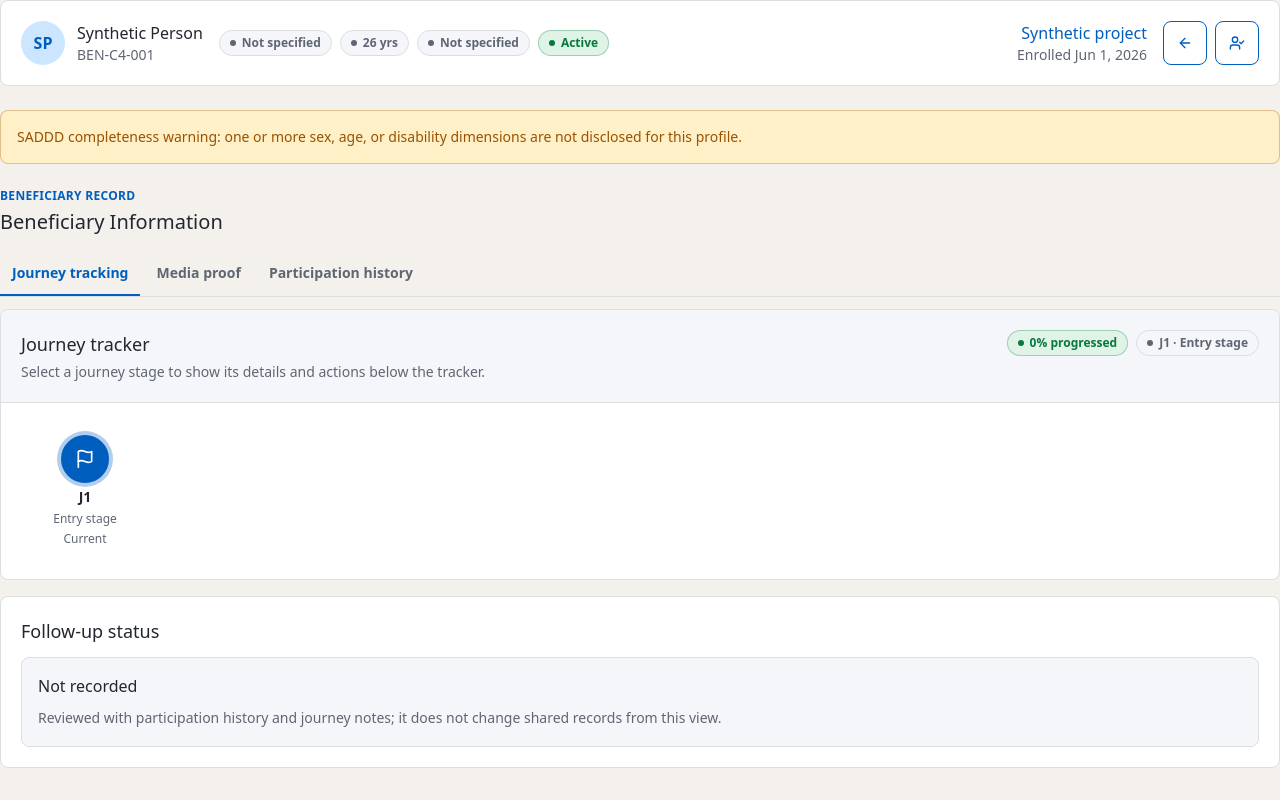
Test: BeneficiaryDetail layout › opens the profile summary dialog from the avatar button
Expected: the text "Safe profile name" is not shown
Click the button with aria-label "Open profile summary" at (43, 43), box top-left (21, 21), bottom-right (65, 65)
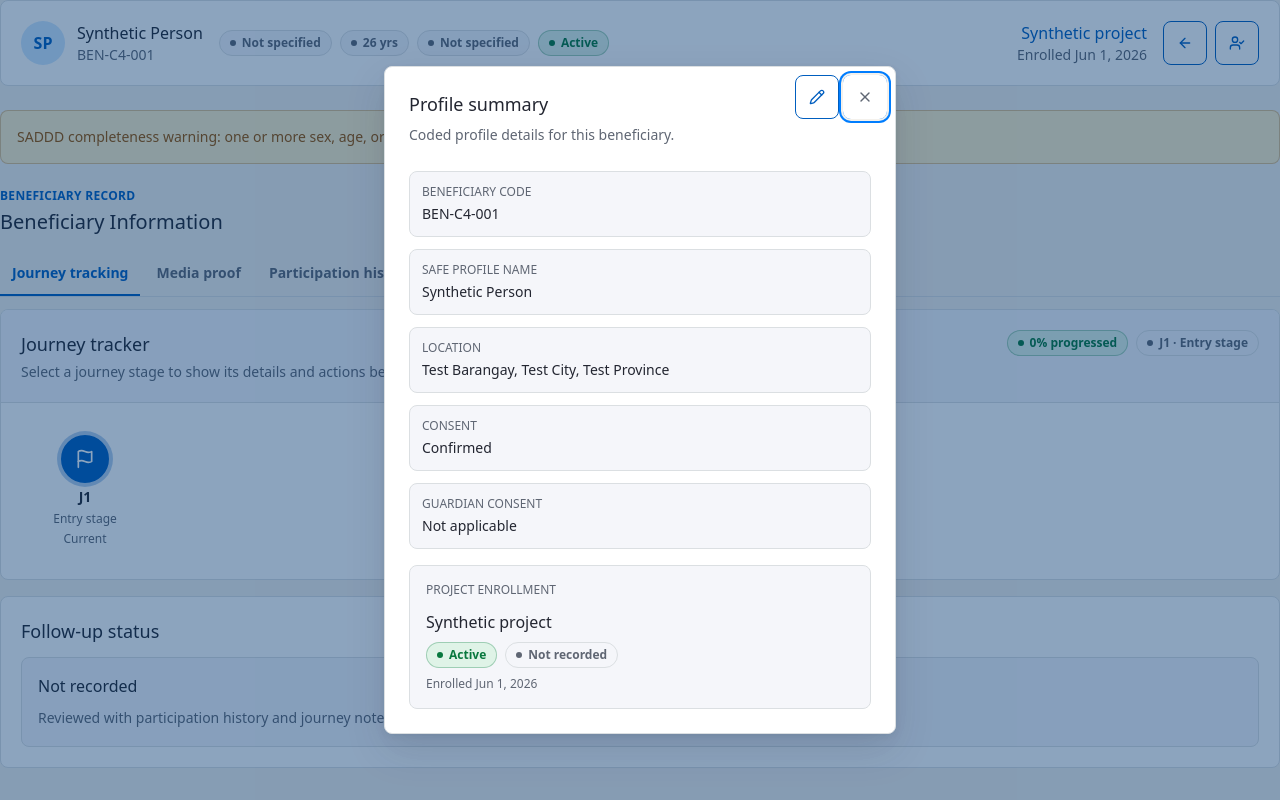
Now the dialog is shown, box top-left (384, 66), bottom-right (896, 734)
Now the text "Safe profile name" is shown, box top-left (422, 261), bottom-right (537, 278)
Now the link named "Edit beneficiary profile" is shown, box top-left (795, 75), bottom-right (839, 119)
